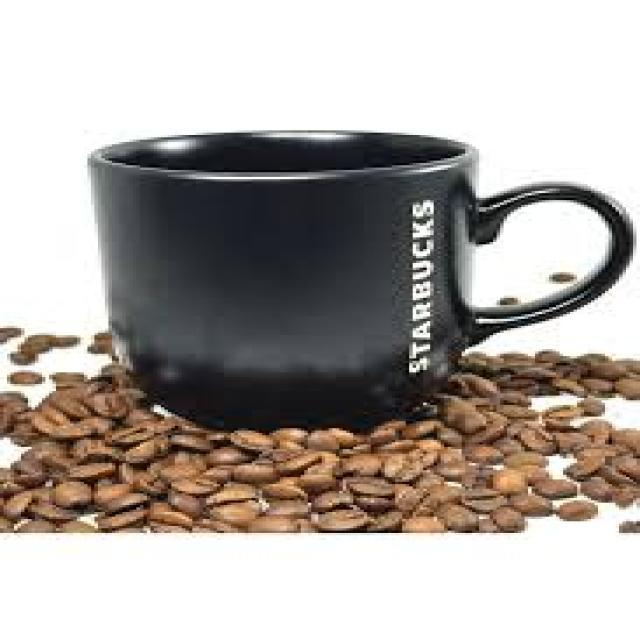taza: (87, 130, 635, 436)
